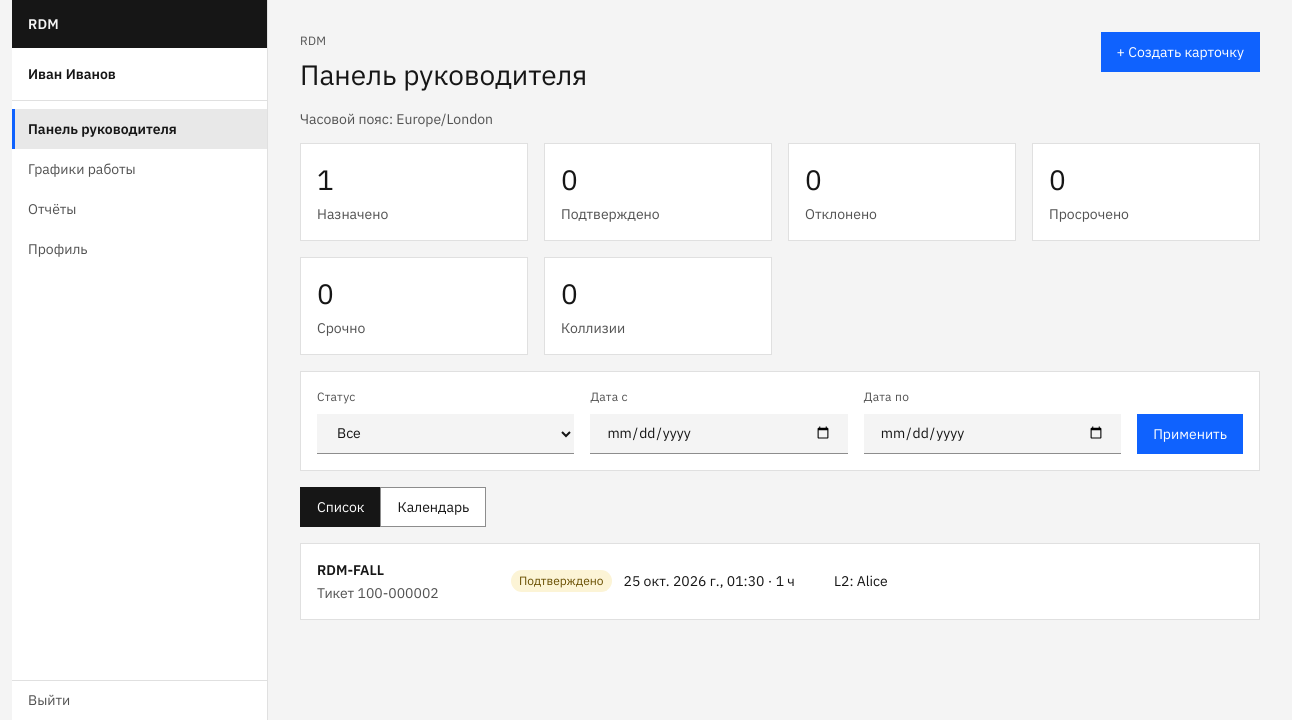
FE-03 Profile Timezone in UI › falls back safely to list with explicit notice on fall DST transition in a DST zone (Europe/London)
The width and height of the screenshot is (1292, 720).
// Filter to fall DST transition day: 2026-10-25
In the date field labelled "Дата с": (719, 434) [590,414,848,454], type "2026-10-25"
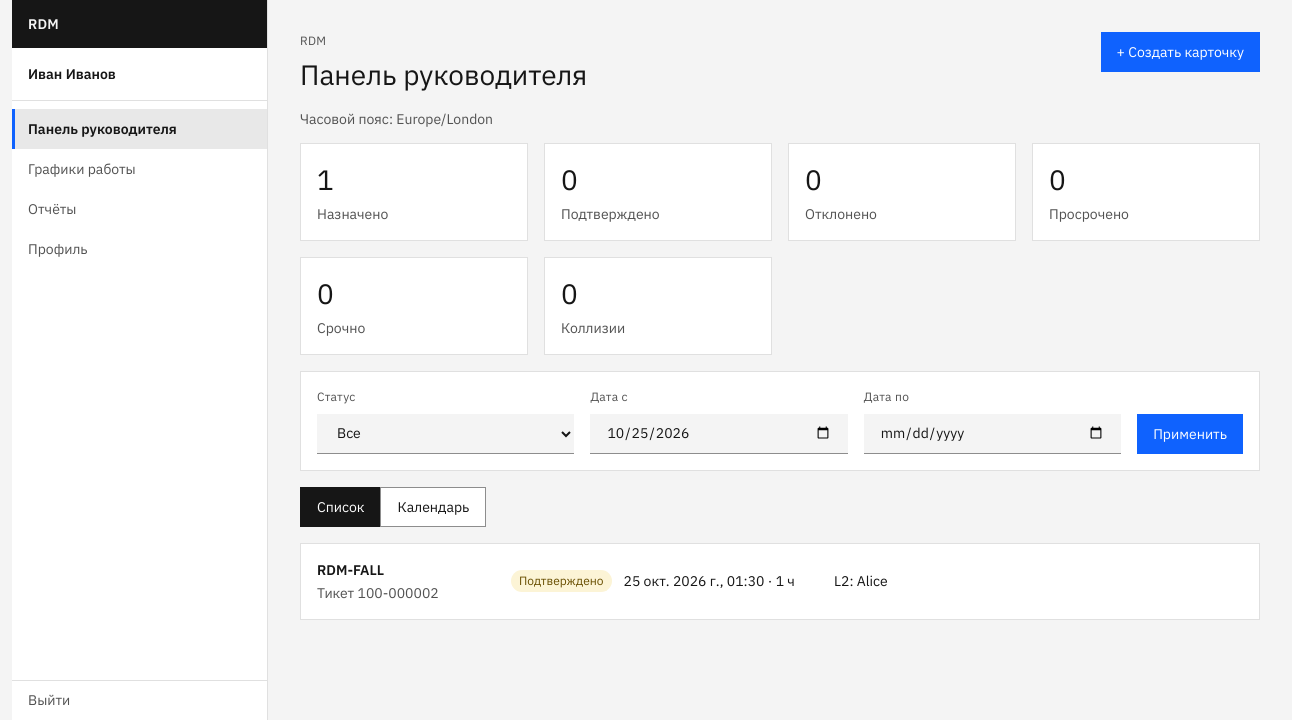
In the date field labelled "Дата по": (992, 434) [864,414,1121,454], type "2026-10-25"
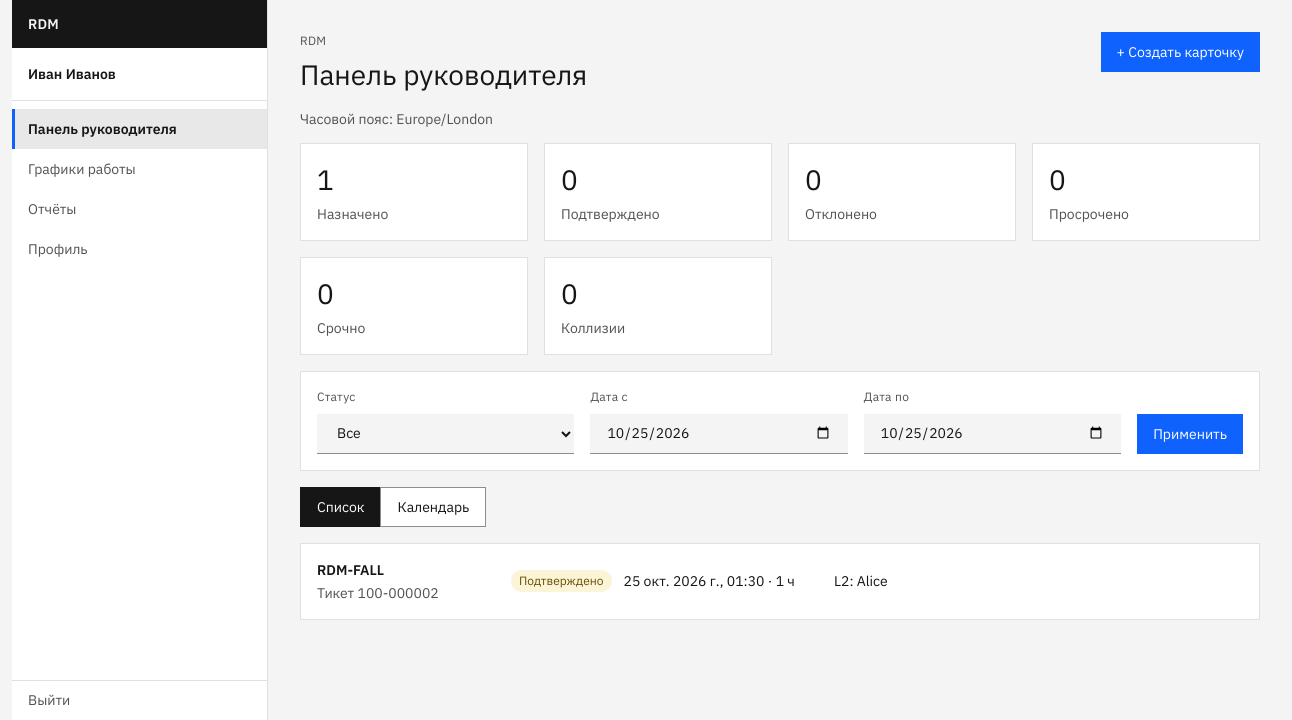
Submit the form with class "manager-filters", box [300,371,1260,471]
// Toggle to calendar view
Click the button "Календарь": (433, 506) [380,486,486,526]
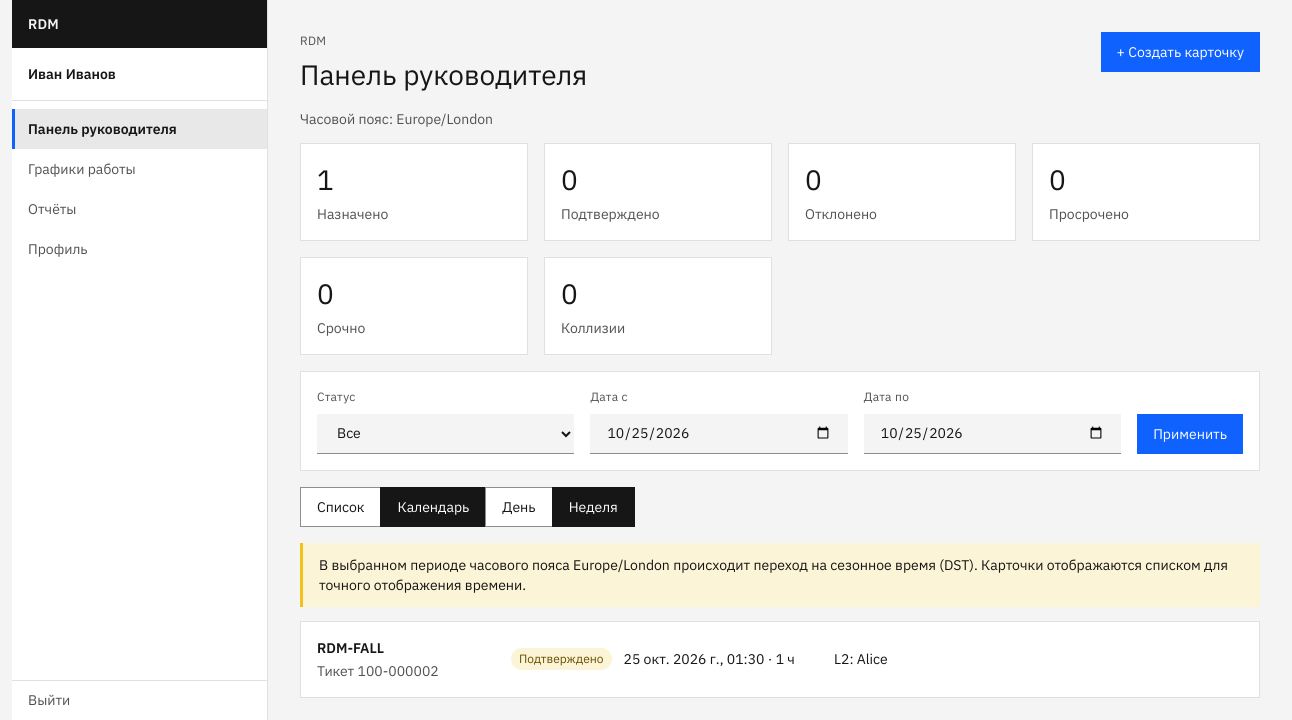
Expected: the text "RDM-FALL" is shown, [317,639,384,657]
Expected: the message with class "dst-notice" is shown, [300,542,1260,606]
